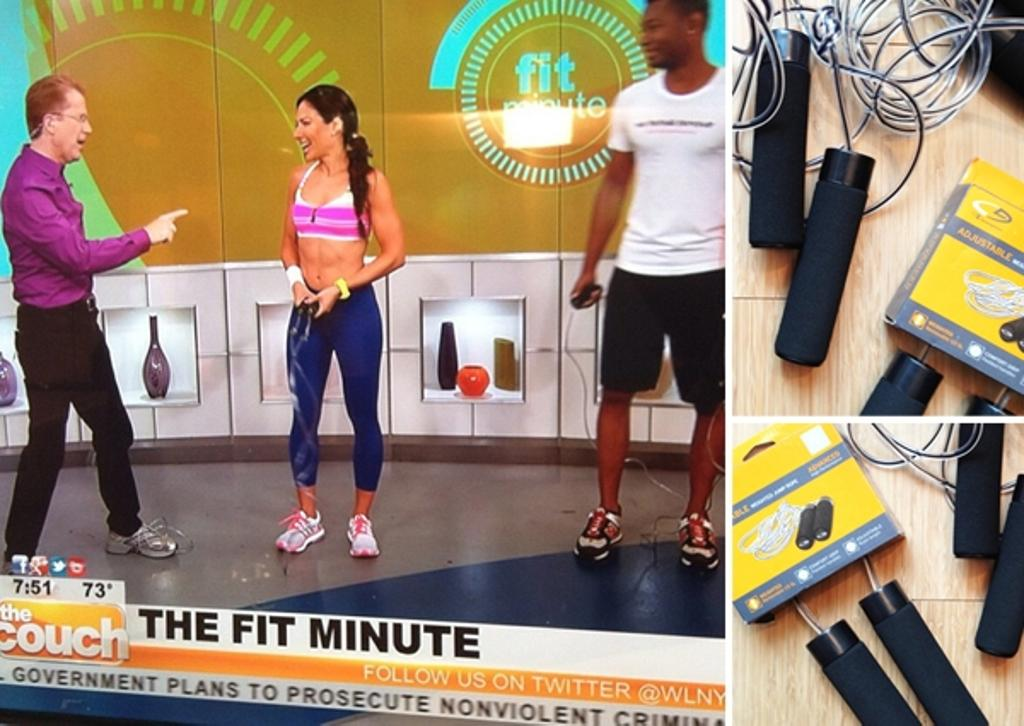face: (640, 0, 688, 67), (53, 92, 92, 161), (292, 104, 330, 163)
